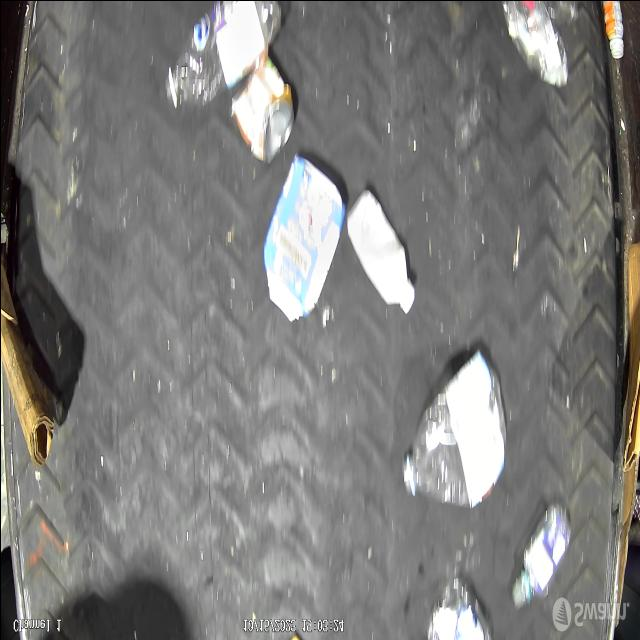can: (228, 54, 294, 164)
non_white_jug: (262, 150, 348, 323)
plastic_bottle: (401, 344, 507, 504), (164, 0, 282, 110), (510, 502, 572, 610)
